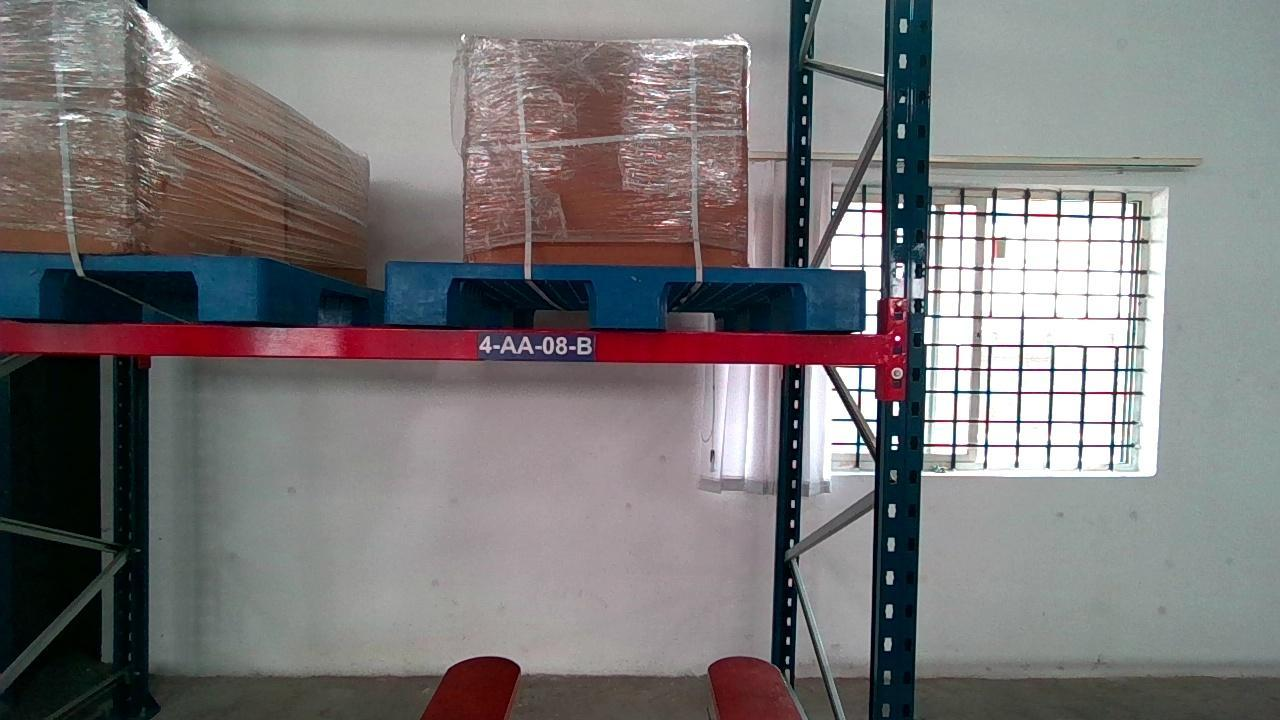h_rack: (2, 320, 888, 366)
small_pallet: (388, 262, 865, 328), (2, 254, 257, 320)
